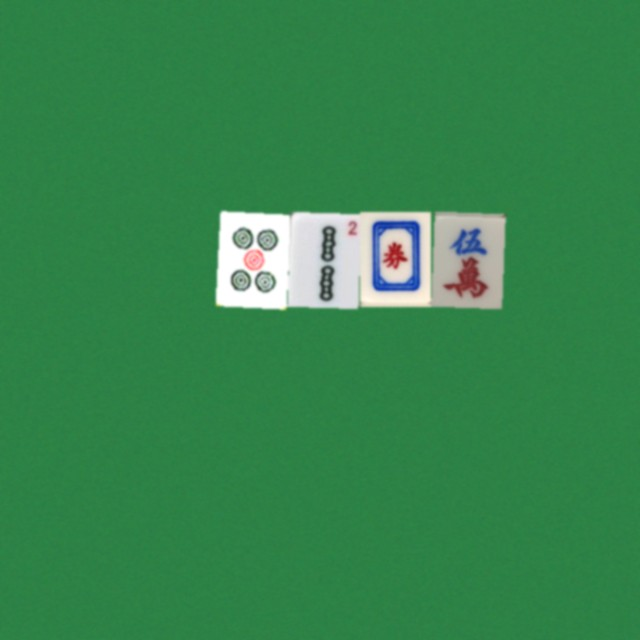tile: (215, 211, 286, 306), (287, 211, 358, 306), (359, 211, 430, 306), (431, 211, 502, 306)
